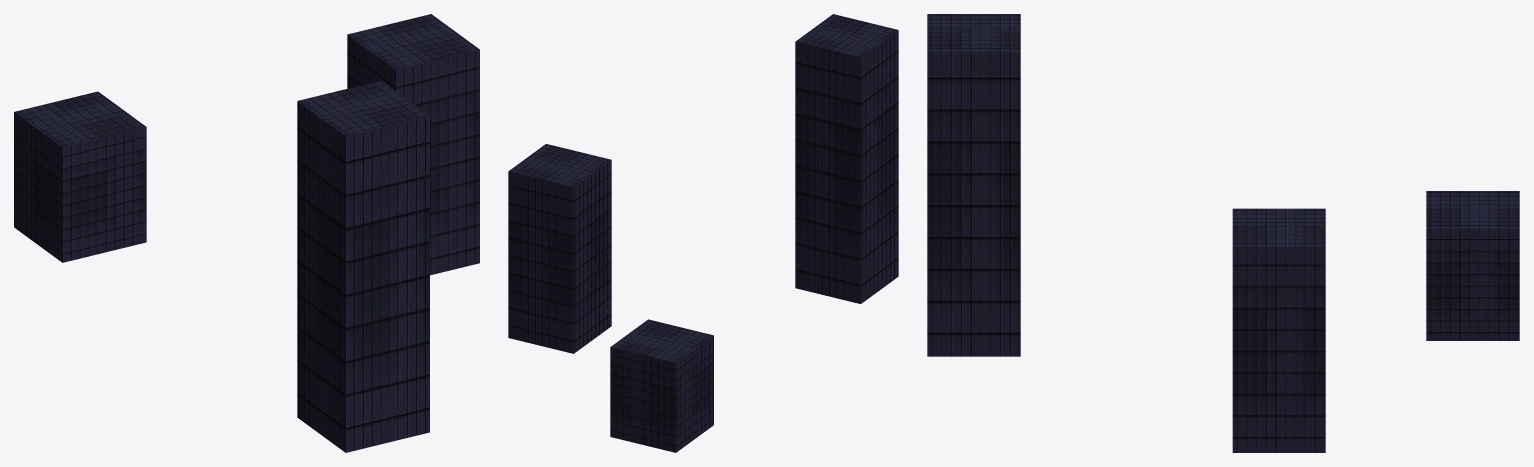
The model's file is wall_towers.fbx.
3 renders of one model, left to right at view 1: azimuth 30°, elevation 25°; view 2: azimuth 150°, elevation 25°; view 3: azimuth 270°, elevation 25°, orthographic. The views are drawn at different scales.
Visible parts, largest first — view 1: Cube.003; view 2: Cube.003; view 3: Cube.003.
Part boxes in pixels (left/top/right/bottom): Cube.003: left=14, top=14, right=479, bottom=452; Cube.003: left=508, top=14, right=898, bottom=452; Cube.003: left=927, top=14, right=1519, bottom=452.
Size of the model in its own units: 9065 by 8663 by 15327.
